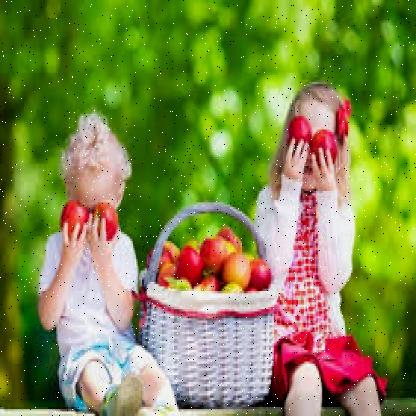apple: (89, 190, 115, 236), (310, 122, 338, 164), (54, 198, 84, 232), (284, 112, 310, 150), (221, 250, 251, 282), (198, 234, 226, 266), (176, 246, 202, 280), (247, 254, 269, 286), (152, 241, 172, 273)
